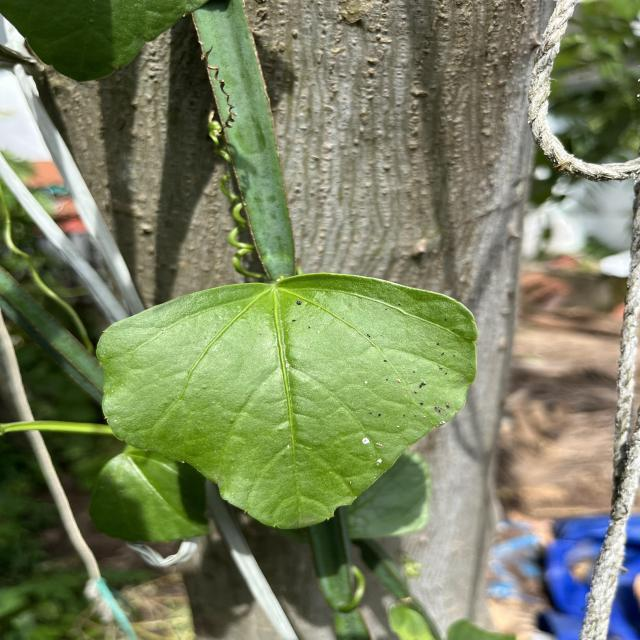Cissus quadrangularis: (87, 268, 486, 538)
